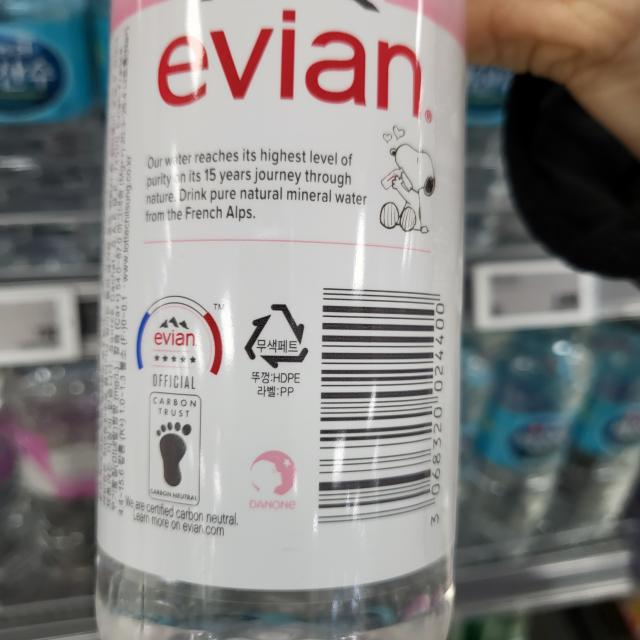ColorlessPET: (242, 302, 310, 369)
